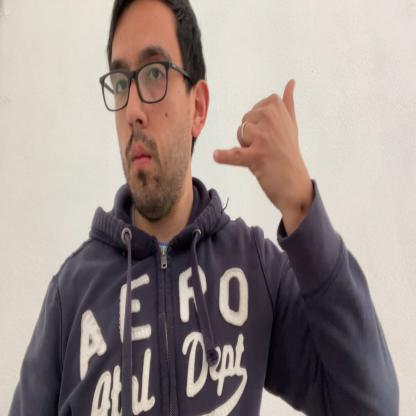Y: (213, 77, 303, 194)
